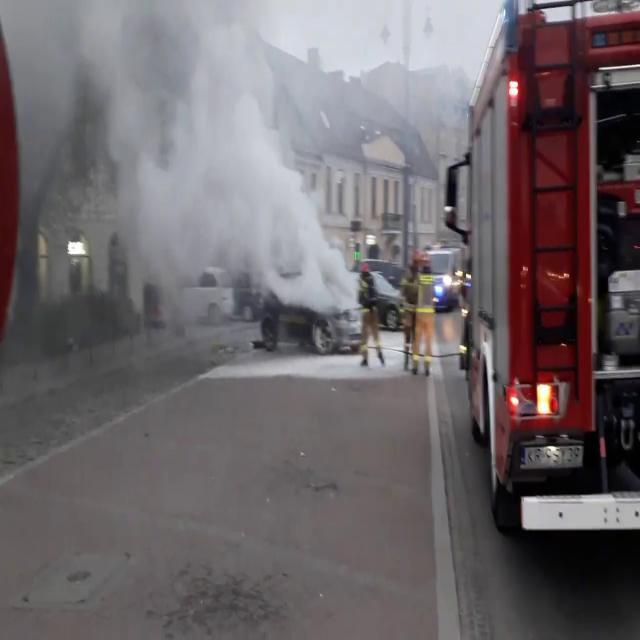Smoke: (2, 0, 357, 336)
